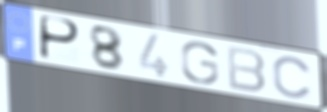4: (137, 31, 171, 80)
8: (87, 24, 126, 71)
B: (225, 44, 267, 95)
C: (271, 55, 314, 101)
G: (179, 41, 221, 86)
P: (38, 14, 83, 63)
